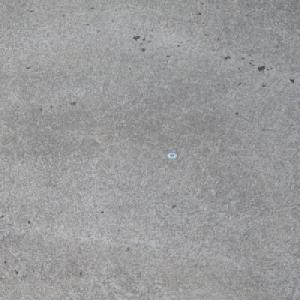Washer: (166, 152, 178, 158)
